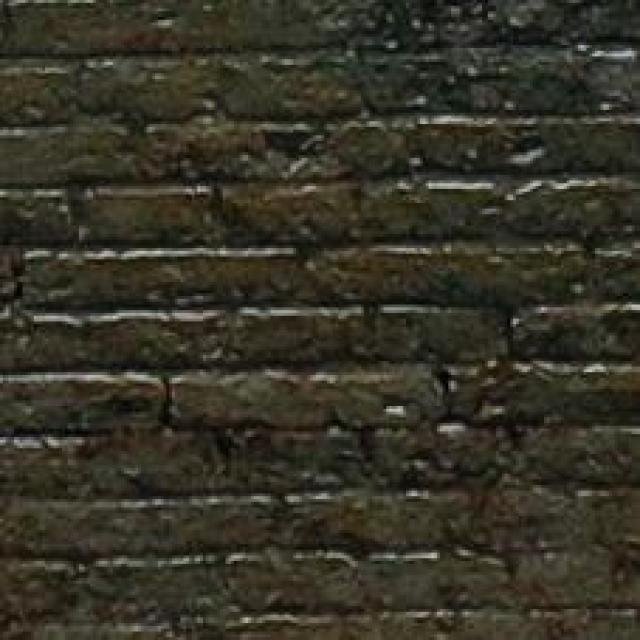Crack: (0, 154, 640, 515)
